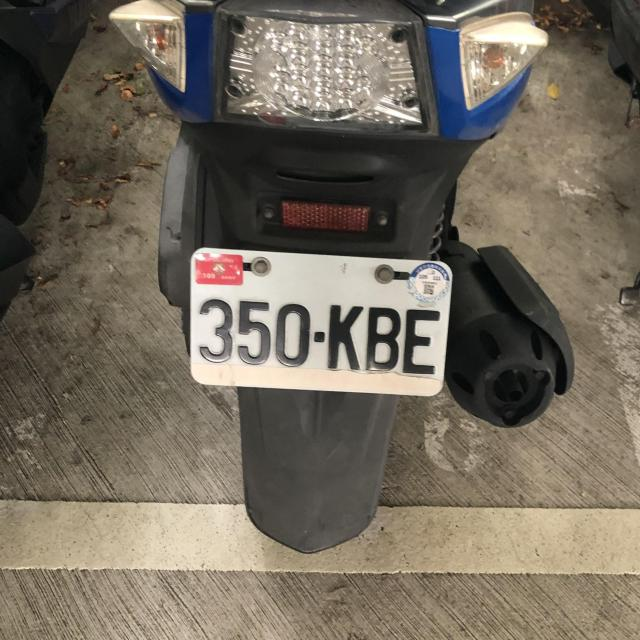W: (181, 244, 456, 396)
